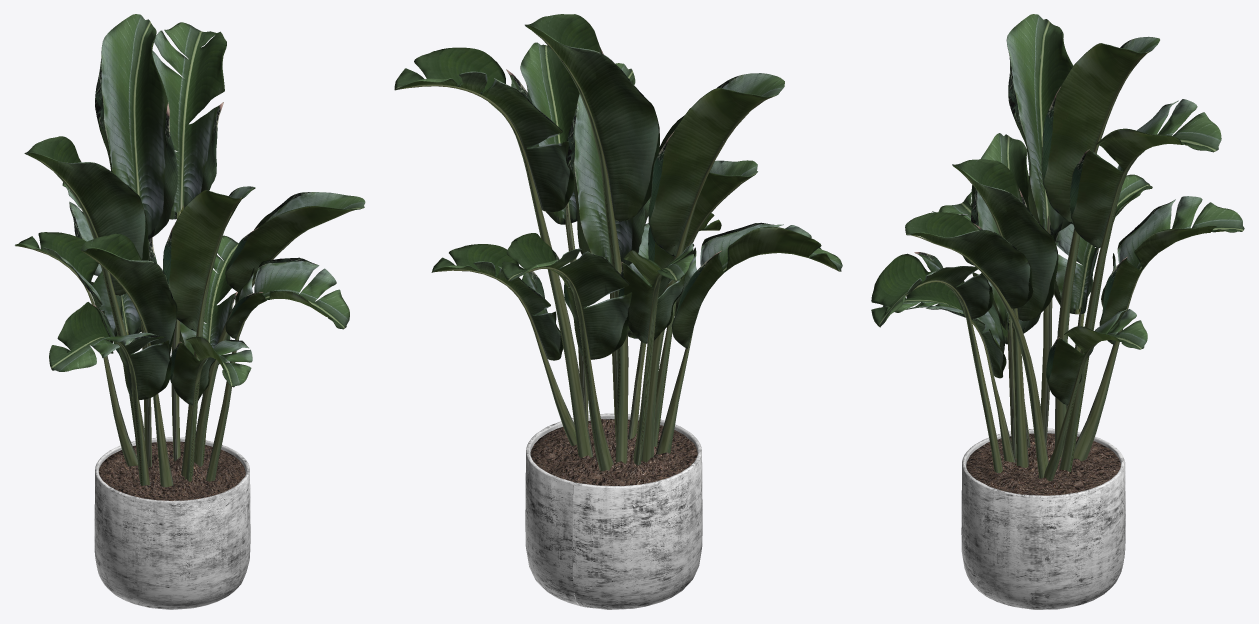
File: FBX_PLANT 1.fbx
3 renders of one model, left to right at view 1: azimuth 30°, elevation 25°; view 2: azimuth 150°, elevation 25°; view 3: azimuth 270°, elevation 25°, orthographic. The views are drawn at different scales.
Parts seen in each view (by area): view 1: G-AUL11, G-AUL10; view 2: G-AUL11, G-AUL10; view 3: G-AUL11, G-AUL10.
Part boxes in pixels (x1,y1,x2,y2): G-AUL11: (15, 14, 365, 487); G-AUL10: (94, 437, 250, 609); G-AUL11: (394, 14, 842, 471); G-AUL10: (525, 413, 702, 609); G-AUL11: (871, 14, 1244, 481); G-AUL10: (961, 428, 1125, 609).
Bounding box in the file's own units: 108 × 188 × 114.
